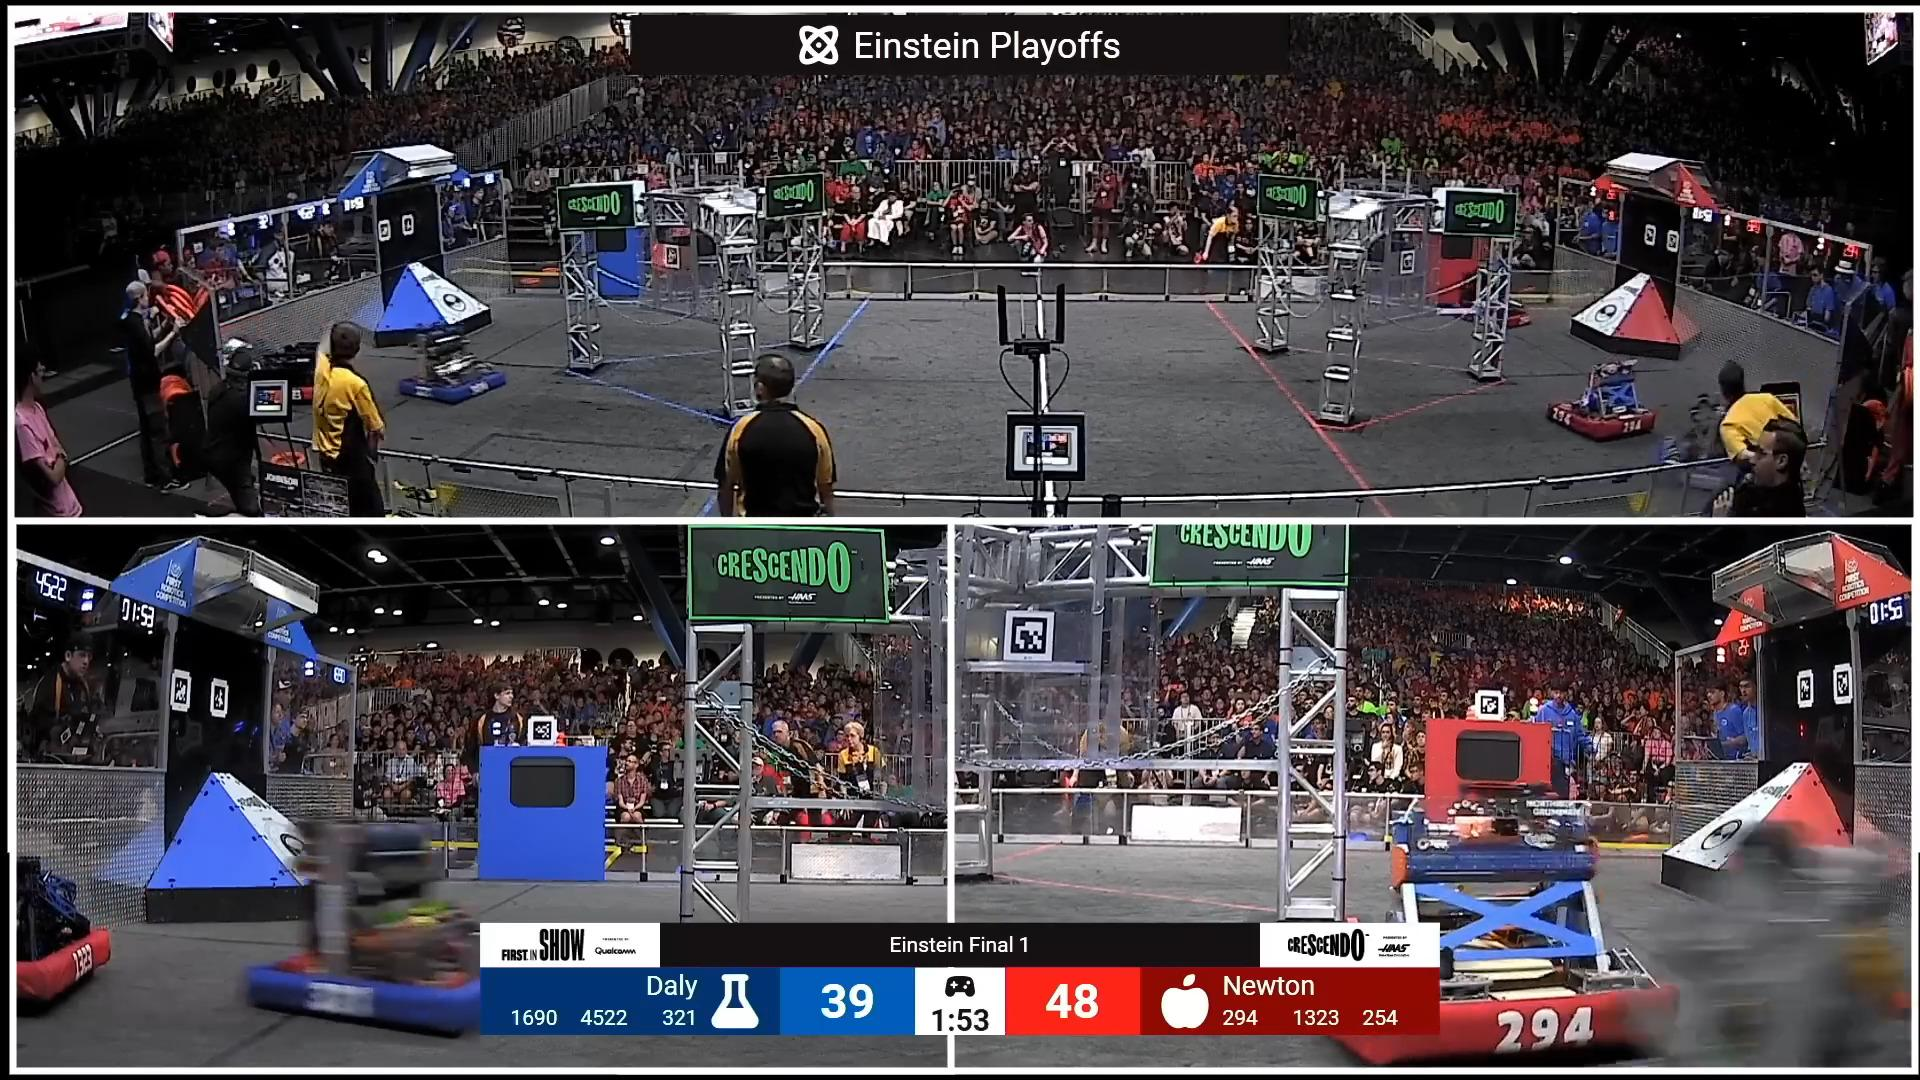blue_idle: (228, 800, 506, 1044), (384, 322, 516, 409)
red_idle: (1320, 798, 1688, 1068), (12, 847, 119, 1010), (1538, 356, 1663, 448)
